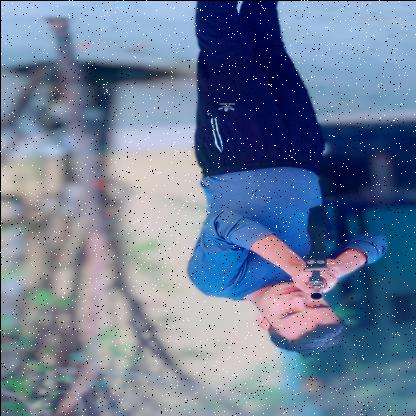rifle: (303, 262, 330, 300)
